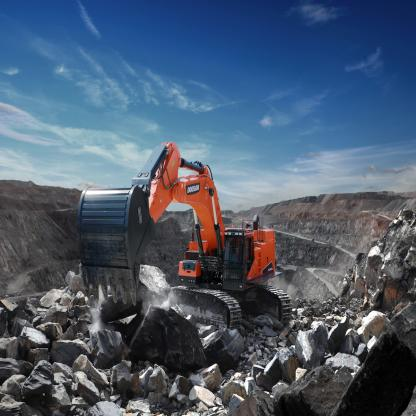excavator: (71, 131, 316, 341)
